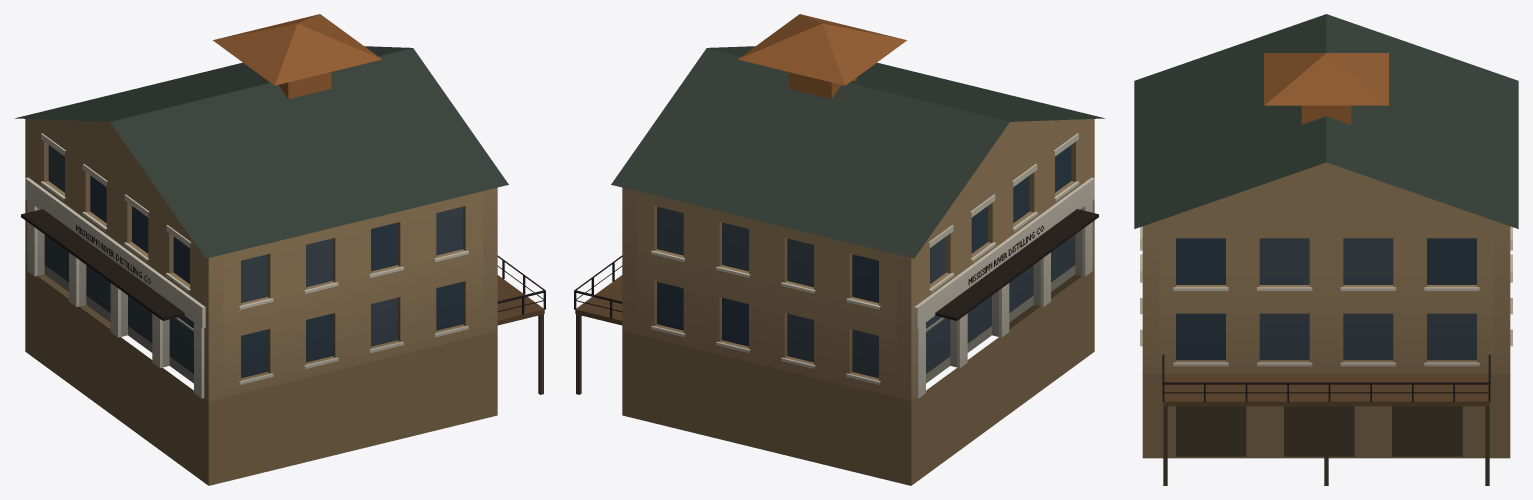
The model's file is distillery.glb.
The picture shows the model from 3 angles, left to right: view 1: azimuth 30°, elevation 25°; view 2: azimuth 150°, elevation 25°; view 3: azimuth 270°, elevation 25°; orthographic projection.
Visible parts, largest first — view 1: distillery_lod0; view 2: distillery_lod0; view 3: distillery_lod0.
Boxes of the visible parts, <box> form: distillery_lod0: <box>15,14,545,485</box>; distillery_lod0: <box>574,14,1104,485</box>; distillery_lod0: <box>1134,14,1518,485</box>.
Size of what is drawn, in the model's own units: 20.75 by 18.7 by 18.5.
